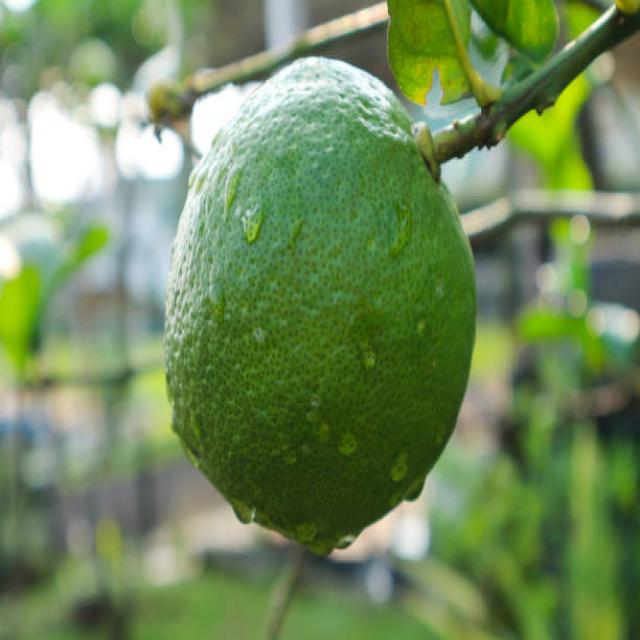Lemon: (162, 56, 478, 556)
